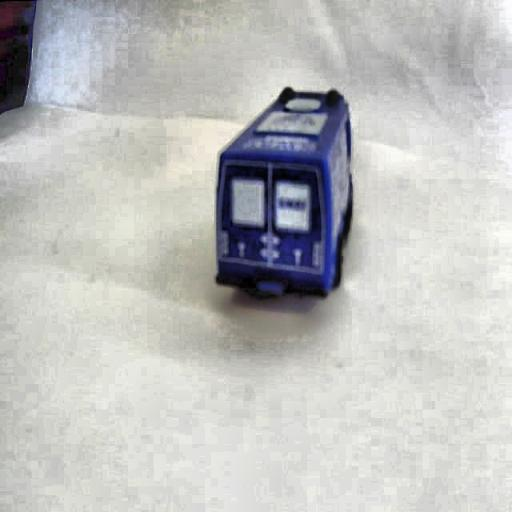police car: (211, 84, 355, 304)
